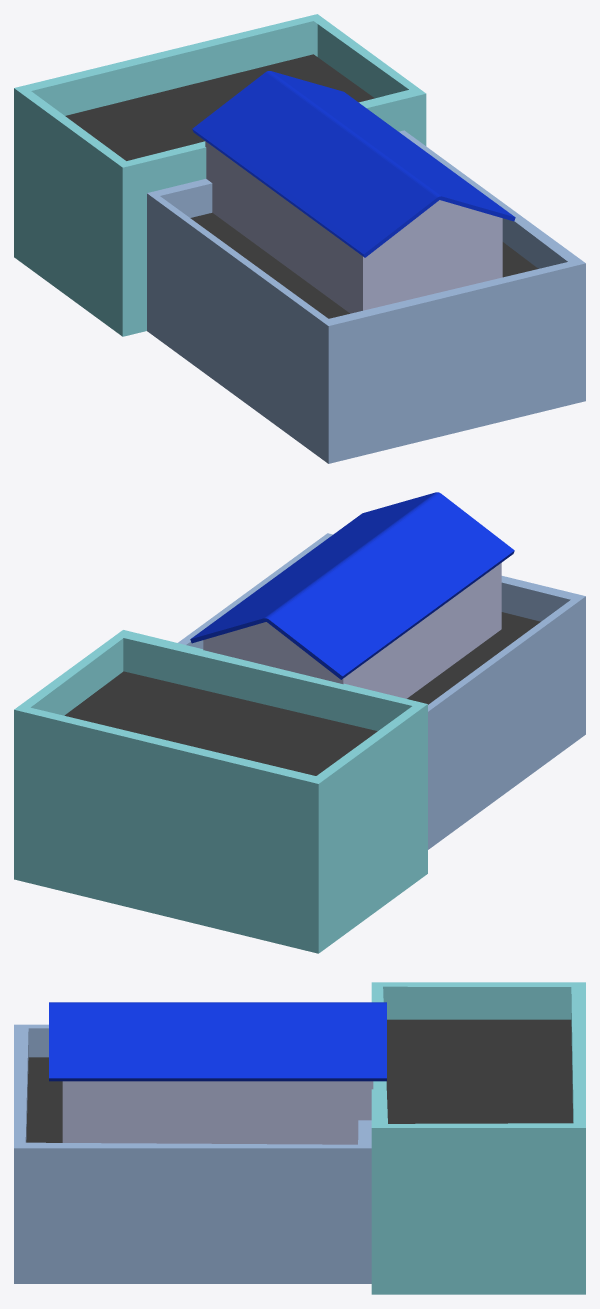
File: factory.glb
3 views of the same model, one above another, from view 1: azimuth 30°, elevation 25°; view 2: azimuth 150°, elevation 25°; view 3: azimuth 270°, elevation 25° (orthographic).
Parts seen in each view (by area): view 1: Куб, Куб.002, roof, Куб.001, floor.001, Куб.003; view 2: Куб.002, roof, Куб, floor.001, Куб.001, Куб.003; view 3: Куб, Куб.002, roof, floor.001, Куб.001, Куб.003.
Part boxes in pixels (x1,y1,x2,y2): Куб: (147, 130, 585, 463); Куб.002: (14, 14, 426, 336); roof: (192, 71, 515, 257); Куб.001: (205, 141, 502, 313); floor.001: (65, 54, 374, 160); Куб.003: (190, 212, 538, 318); Куб.002: (14, 630, 427, 953); roof: (190, 492, 514, 679); Куб: (178, 533, 585, 849); floor.001: (64, 671, 377, 775); Куб.001: (203, 563, 501, 698); Куб.003: (407, 612, 540, 704); Куб: (14, 1024, 371, 1283); Куб.002: (371, 982, 585, 1294); roof: (49, 1002, 386, 1081); floor.001: (386, 1019, 573, 1123); Куб.001: (62, 1081, 373, 1144); Куб.003: (26, 1057, 62, 1142).
Bounding box in the file's own units: 5.4 × 3.79 × 8.96.
